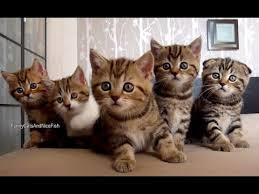cat: (88, 46, 186, 172), (149, 34, 201, 144), (192, 56, 251, 150), (1, 58, 62, 145), (41, 65, 99, 138)
